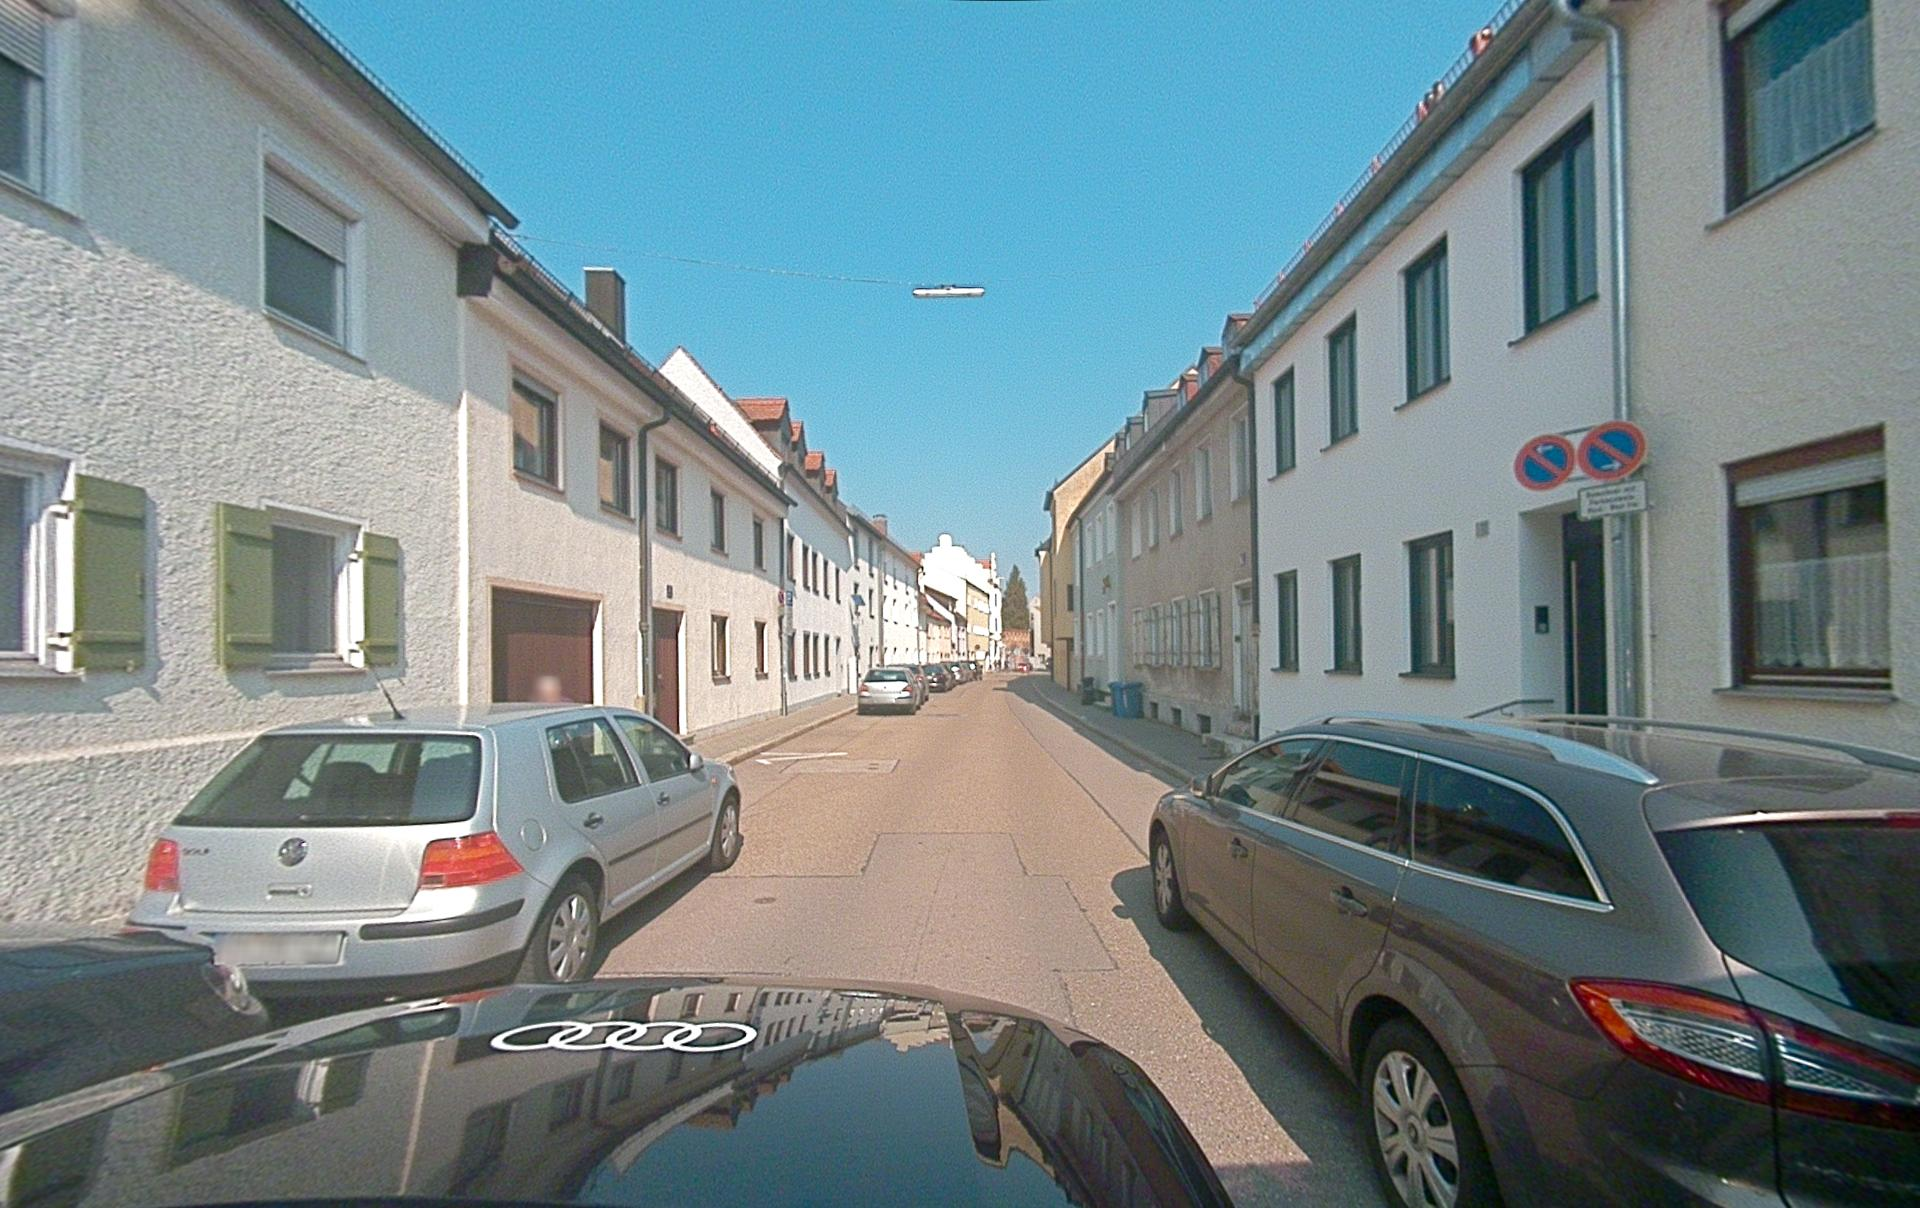car: (1146, 710, 1920, 1207), (1, 963, 1235, 1208), (127, 700, 744, 995), (857, 667, 922, 715), (922, 664, 954, 692)
